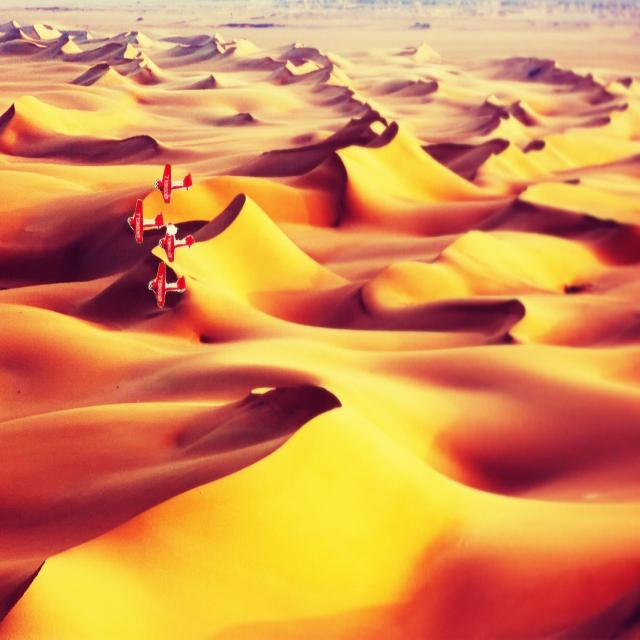airplane: (148, 260, 187, 306), (128, 198, 165, 244), (154, 163, 192, 205), (158, 223, 196, 263)
